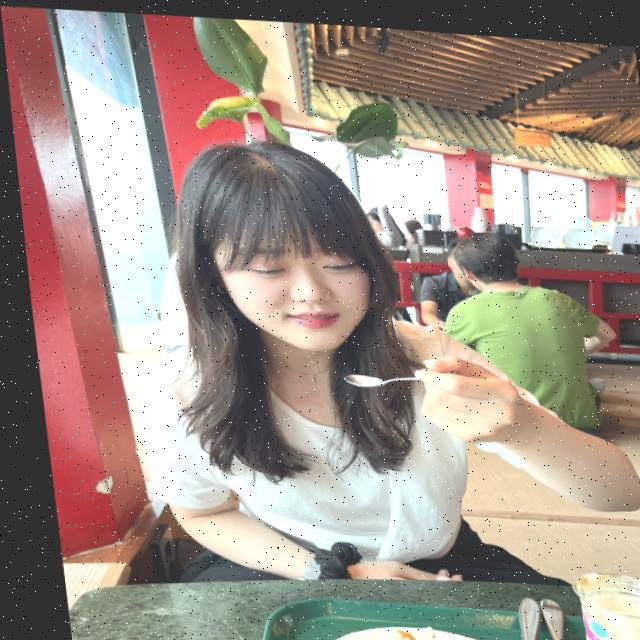eating-person: (85, 105, 640, 640)
